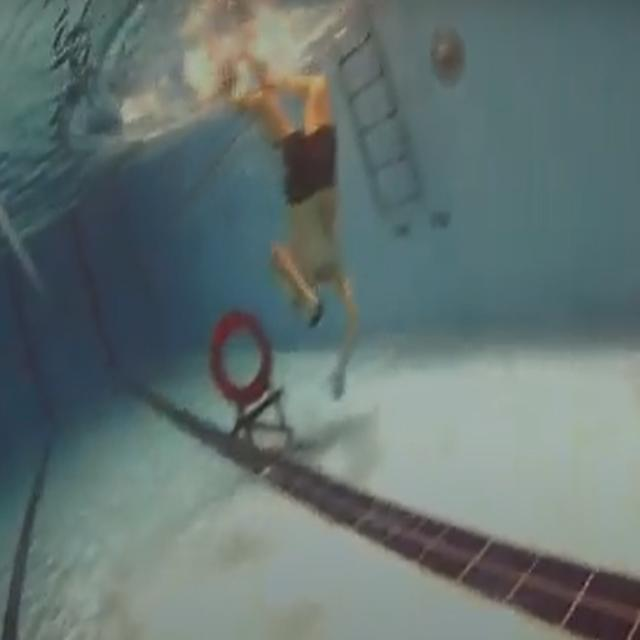Circle: (209, 307, 274, 400)
